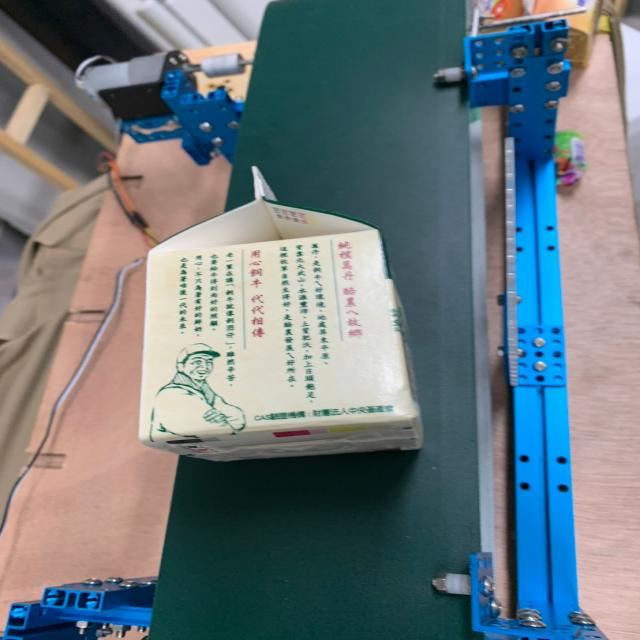non_white_jug: (141, 148, 447, 479)
